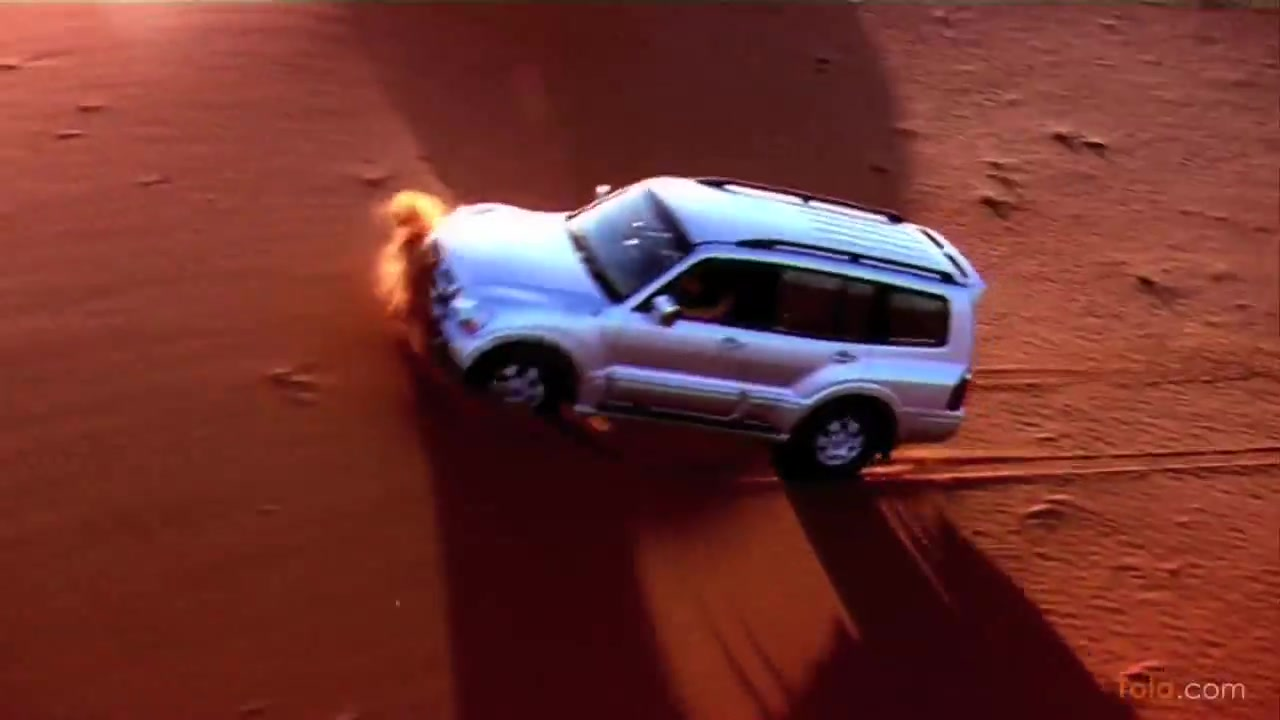car: (420, 155, 984, 482)
